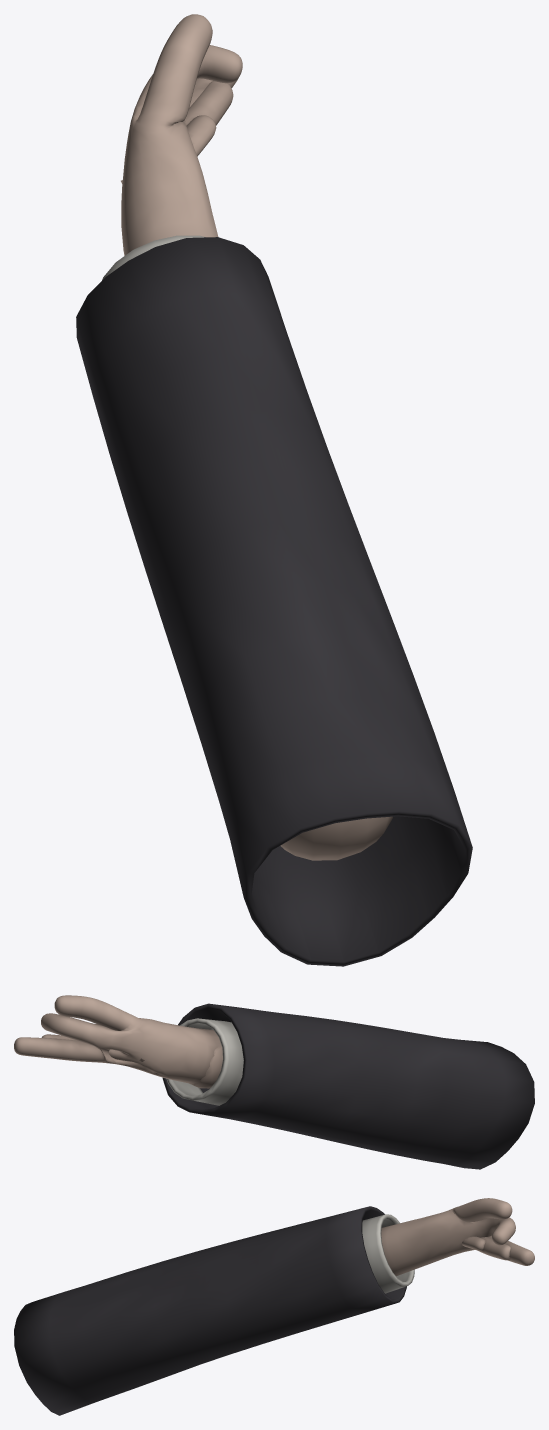
The model's file is hand_left.glb.
The picture shows the model from 3 angles, top to bottom: view 1: azimuth 30°, elevation 25°; view 2: azimuth 150°, elevation 25°; view 3: azimuth 270°, elevation 25°; orthographic projection. The views are drawn at different scales.
Visible parts, largest first — view 1: HandLeft; view 2: HandLeft; view 3: HandLeft.
Boxes of the visible parts, <box> form: HandLeft: <box>76,14,472,966</box>; HandLeft: <box>14,995,534,1169</box>; HandLeft: <box>14,1198,534,1415</box>.
Size of the model in its own units: 0.209 by 0.2396 by 0.4037.
